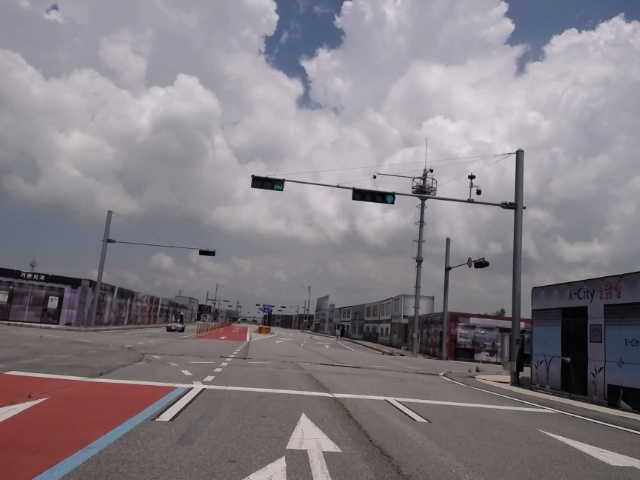straight_green_4: (352, 189, 394, 204)
